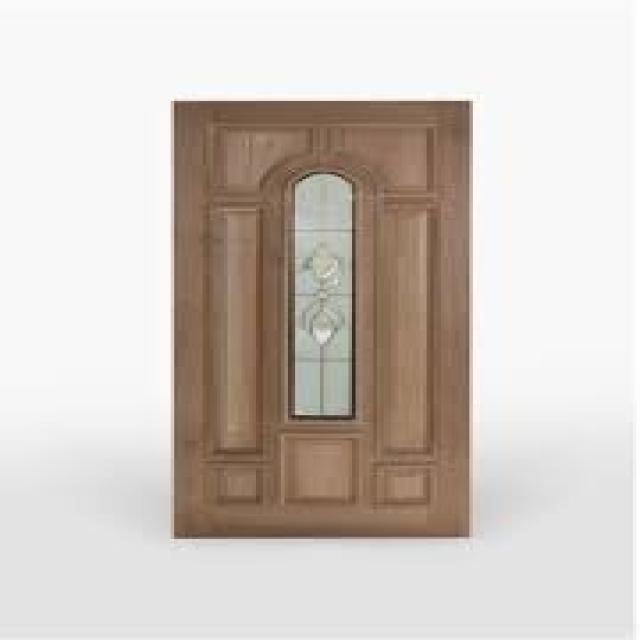door: (171, 98, 473, 540)
